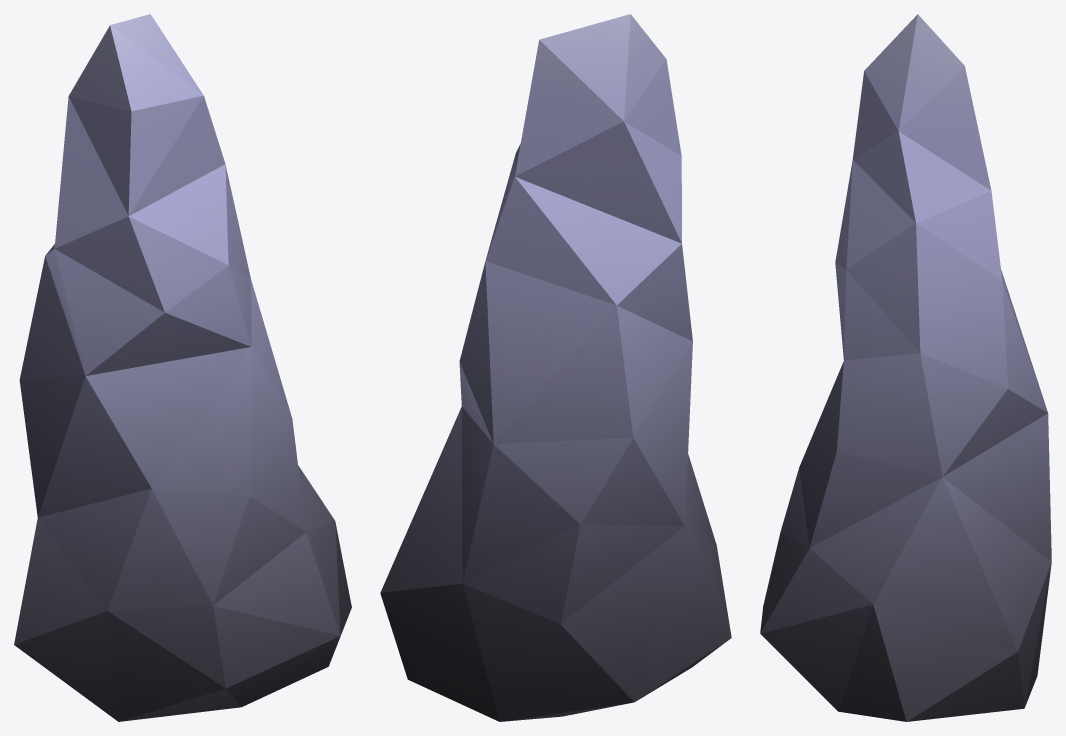
3 renders of one model, left to right at view 1: azimuth 30°, elevation 25°; view 2: azimuth 150°, elevation 25°; view 3: azimuth 270°, elevation 25°, orthographic. The views are drawn at different scales.
Parts seen in each view (by area): view 1: Base_03; view 2: Base_03; view 3: Base_03.
Part boxes in pixels (bbox=[...]): Base_03: bbox=[14, 14, 351, 721]; Base_03: bbox=[380, 14, 731, 721]; Base_03: bbox=[760, 14, 1051, 721].
Size of the model in its own units: 0.8662 by 1.74 by 0.6948.
